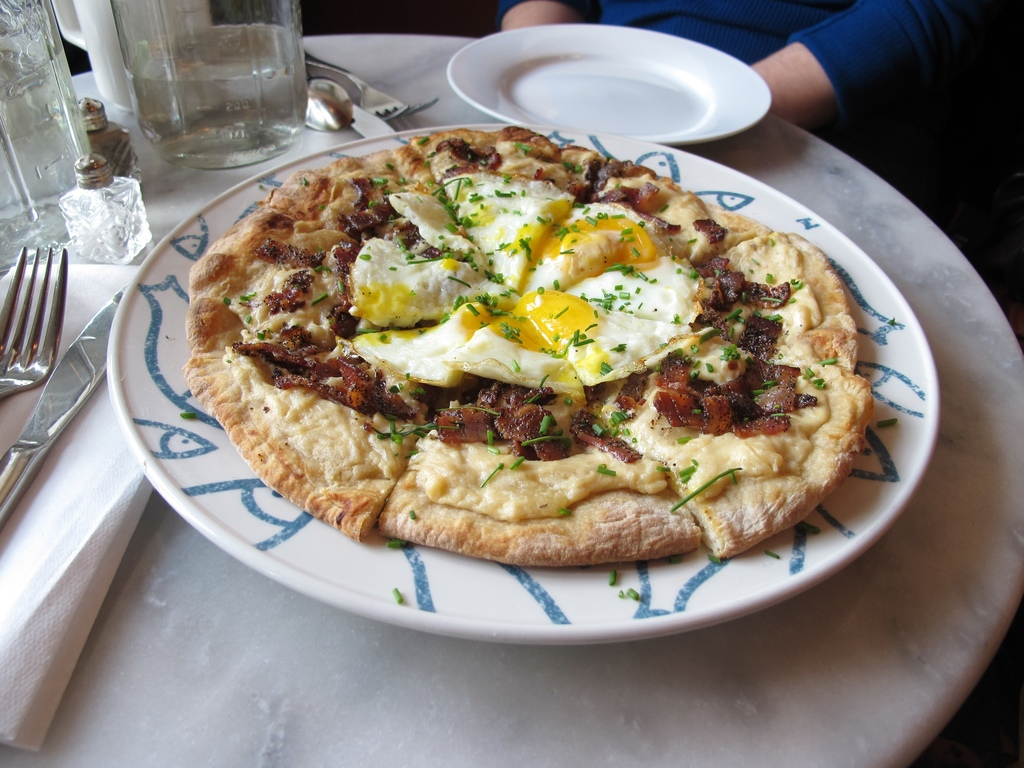Pizza: (184, 124, 876, 564)
